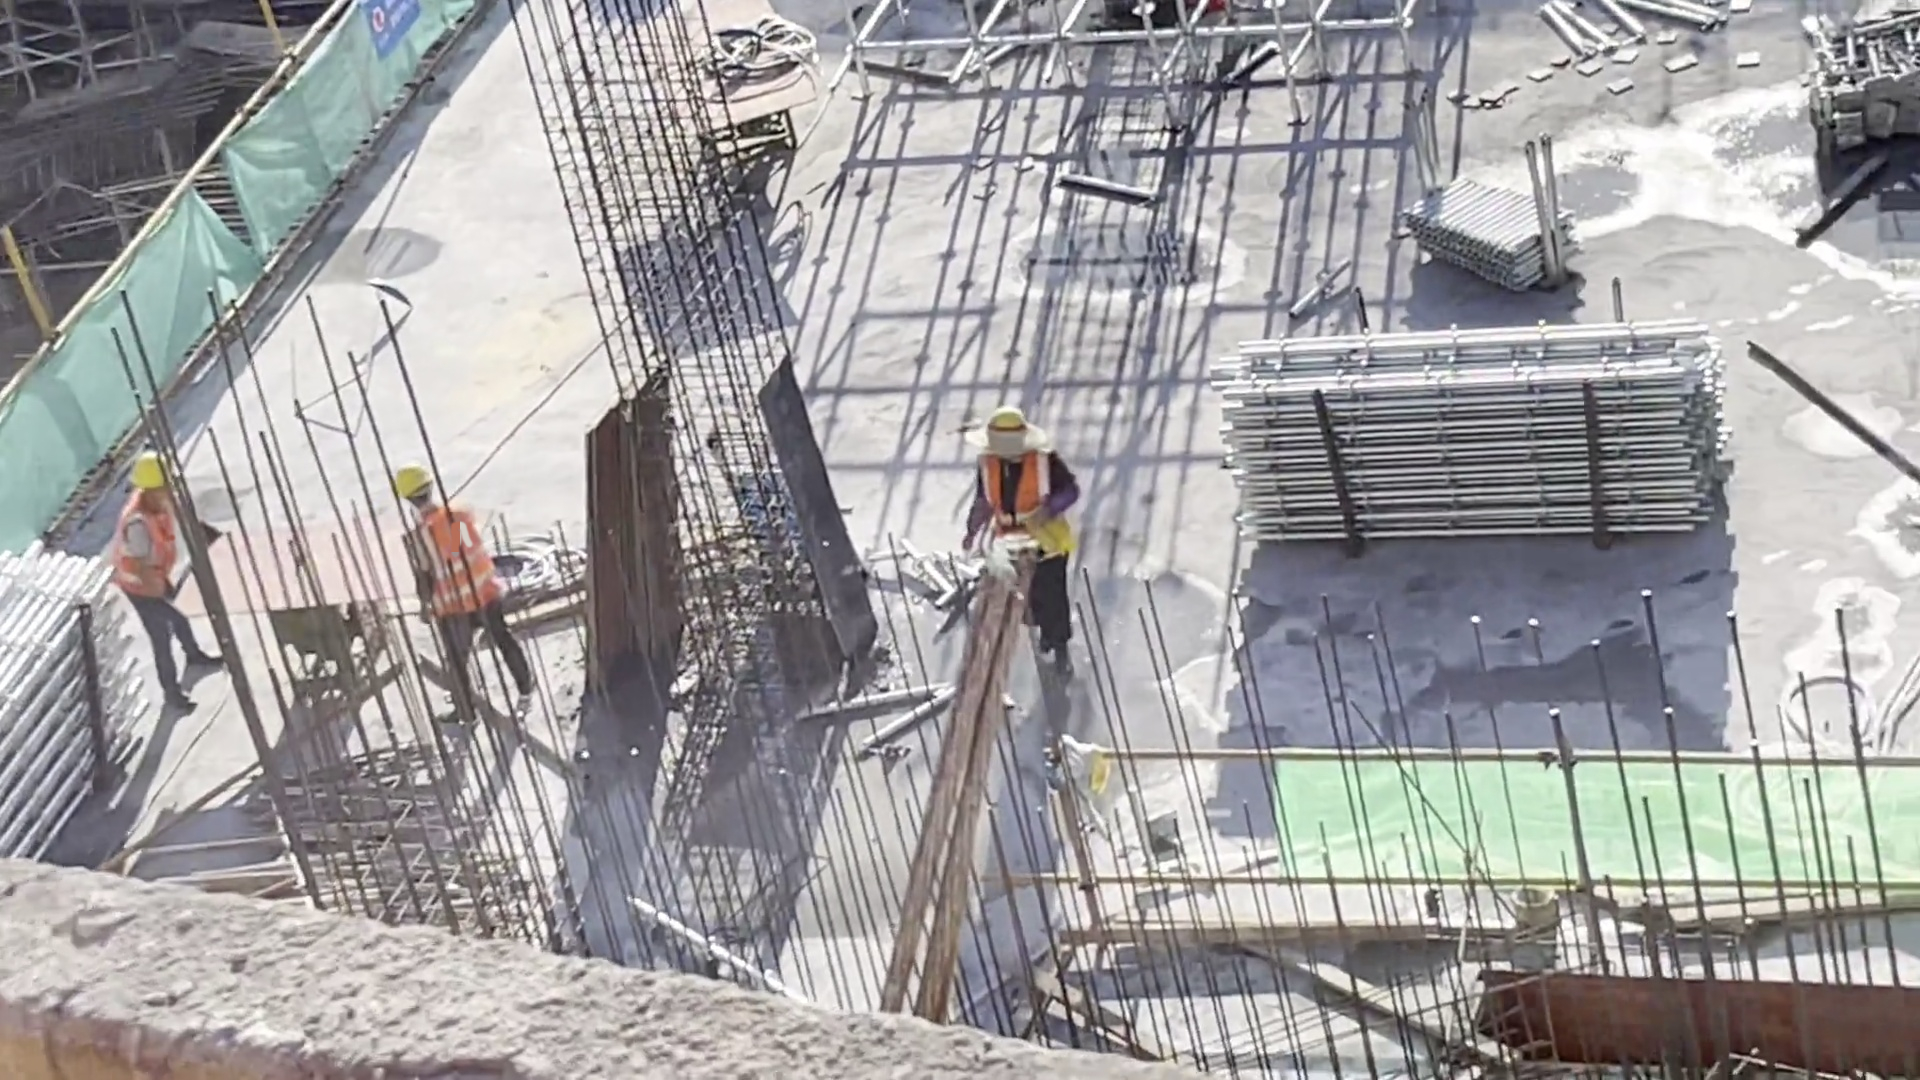board: (553, 369, 701, 692)
helmet: (118, 452, 187, 491), (979, 415, 1038, 448), (389, 464, 438, 501)
person: (388, 463, 545, 726), (956, 402, 1084, 677), (107, 448, 232, 712)
scaffold: (1211, 316, 1743, 540), (1, 536, 149, 880)
vest: (400, 512, 511, 616), (973, 452, 1067, 553), (107, 497, 185, 599)
